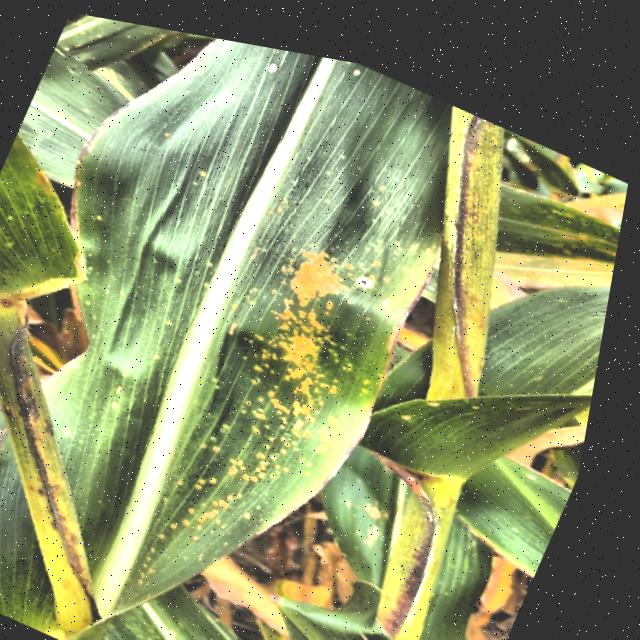common_rust: (40, 37, 446, 614)
